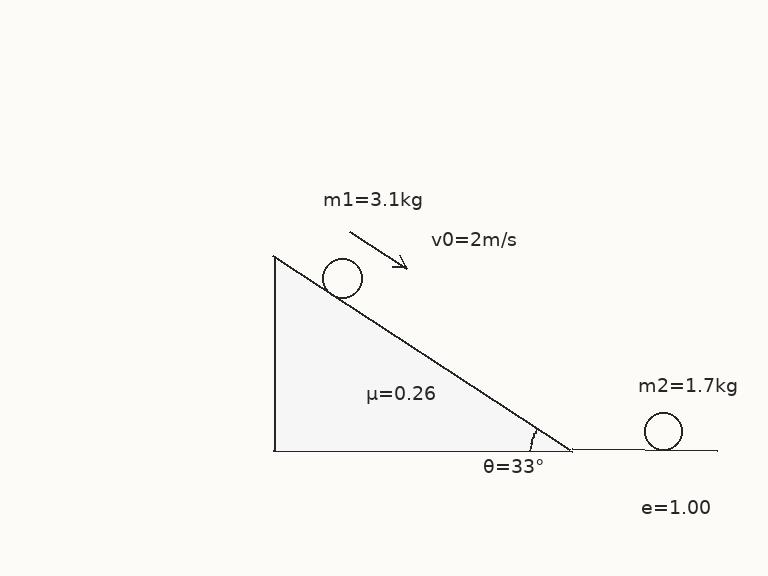ball: (320, 256, 364, 300), (642, 410, 684, 452)
ramp: (271, 255, 573, 452)
